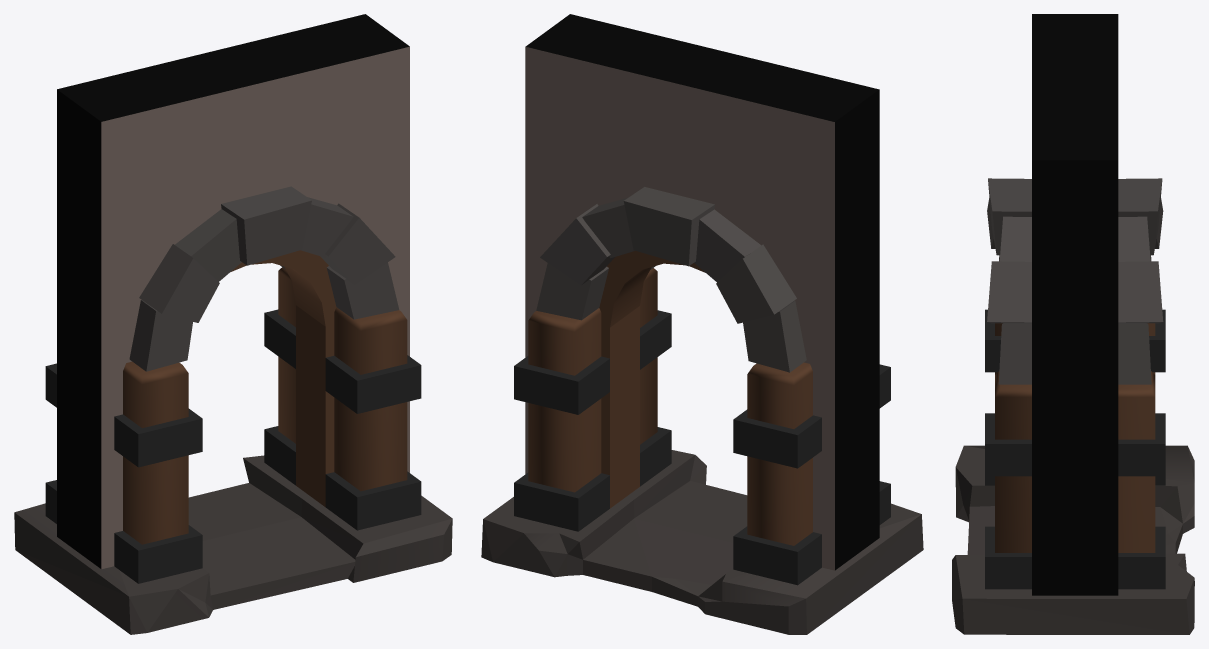
File: Wall_S_DoorWood.fbx
The picture shows the model from 3 angles, left to right: view 1: azimuth 30°, elevation 25°; view 2: azimuth 150°, elevation 25°; view 3: azimuth 270°, elevation 25°; orthographic projection. The views are drawn at different scales.
Parts seen in each view (by area): view 1: Wall_S_DoorWood2; view 2: Wall_S_DoorWood2; view 3: Wall_S_DoorWood2.
Part boxes in pixels (x1,y1,x2,y2): Wall_S_DoorWood2: [14, 14, 452, 634]; Wall_S_DoorWood2: [481, 14, 923, 634]; Wall_S_DoorWood2: [952, 14, 1194, 634].
Bounding box in the file's own units: 4.02 × 5.76 × 2.69.
